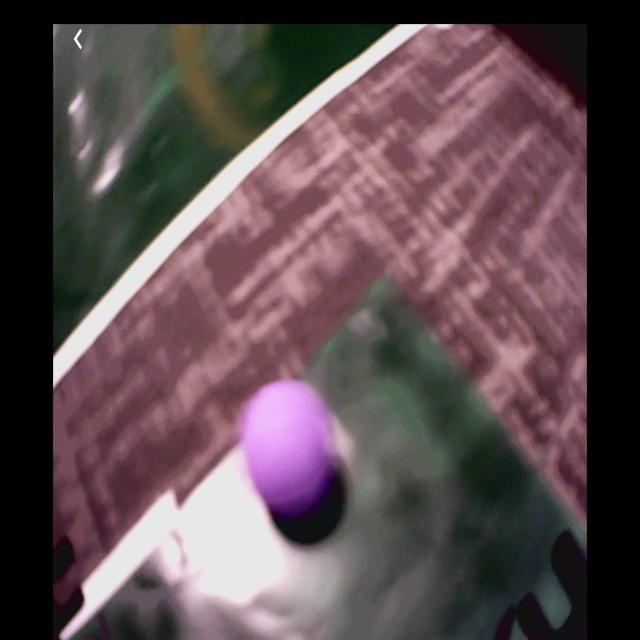ball: (246, 382, 334, 515)
